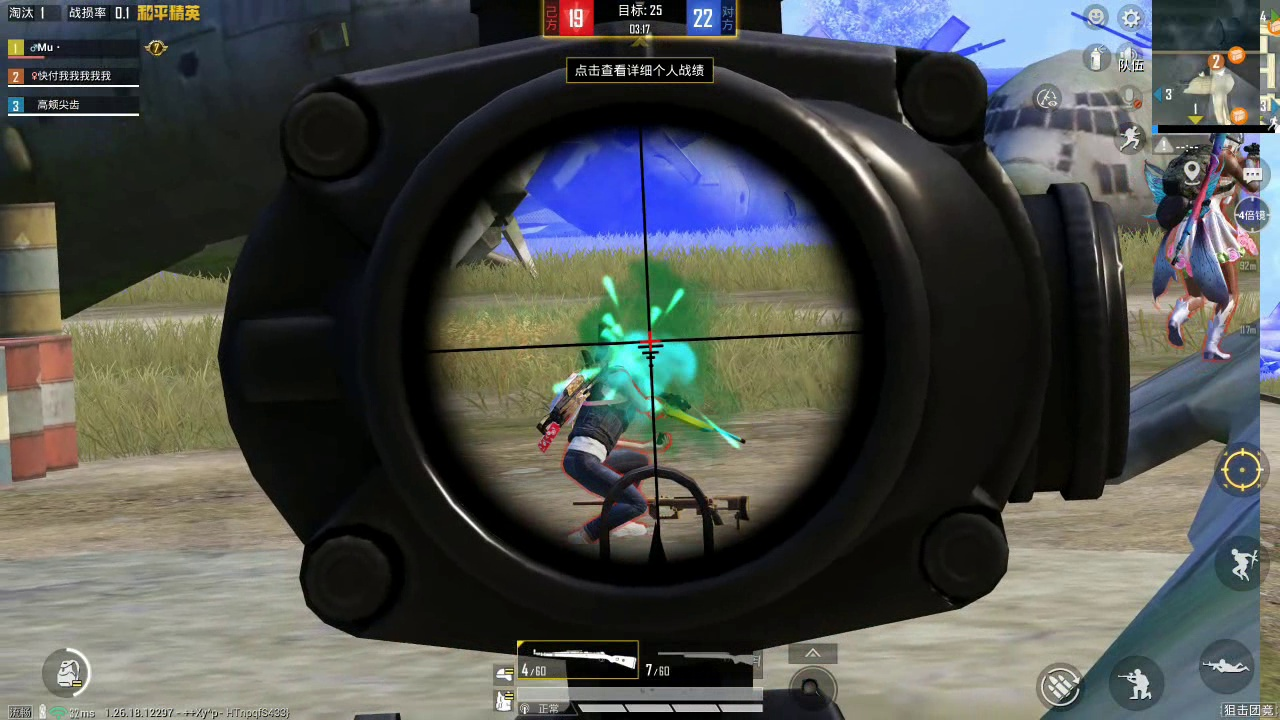enemy: (1158, 130, 1250, 368), (560, 335, 654, 537)
